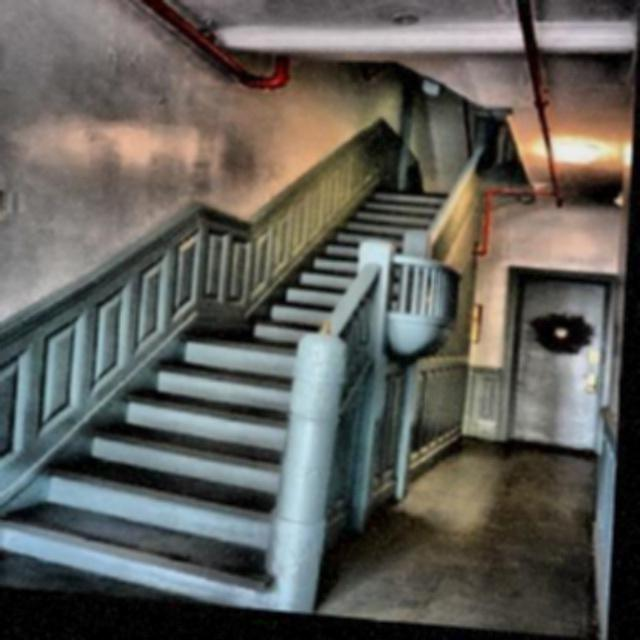stair: (2, 144, 486, 602)
